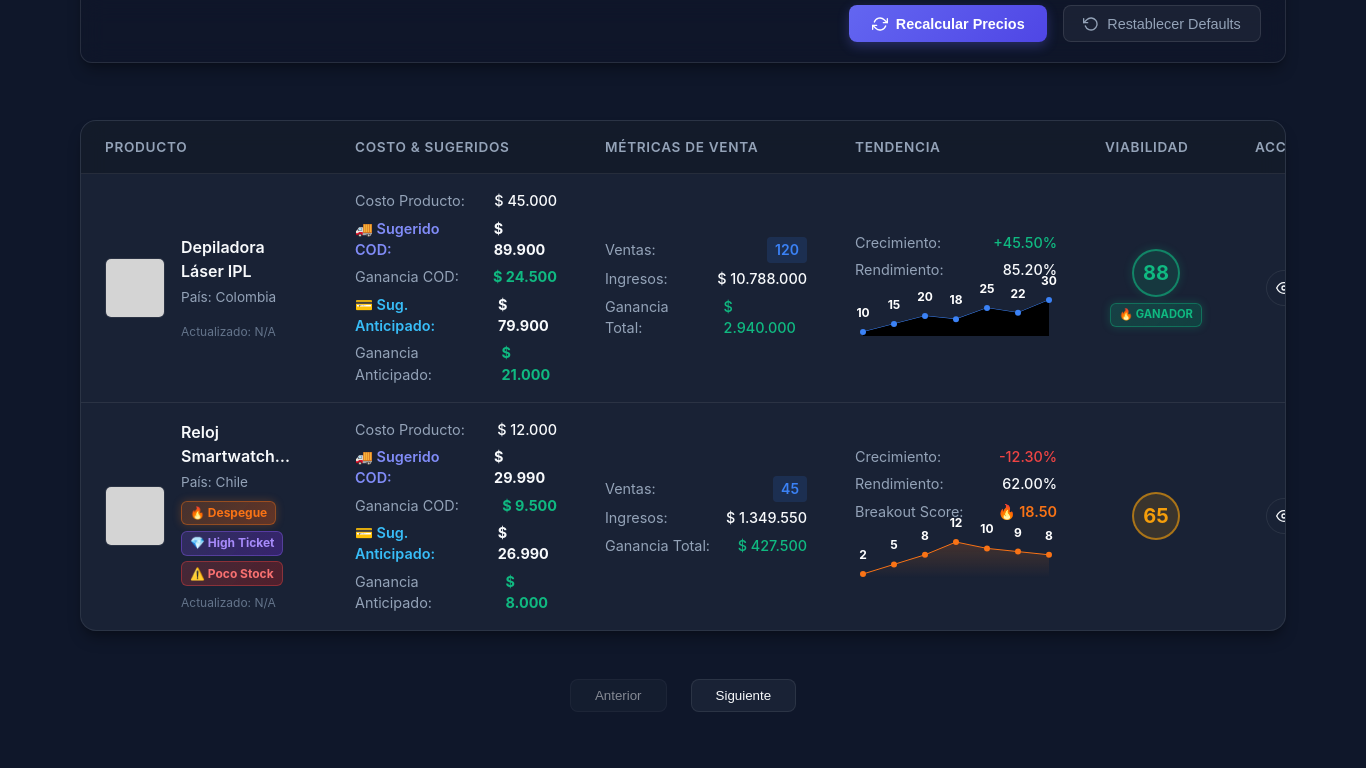
Home Page (MSW Integration) › gestiona la paginación por cursor correctamente
(page scrolled)
Expected: the text "Depiladora Láser IPL" is shown, [181,237,265,281]
Expected: the button "Anterior" is disabled, [570,679,667,712]
Note: Hacer clic en Siguiente
Click the button "Siguiente".
click(743, 695)  # box [690,679,796,712]
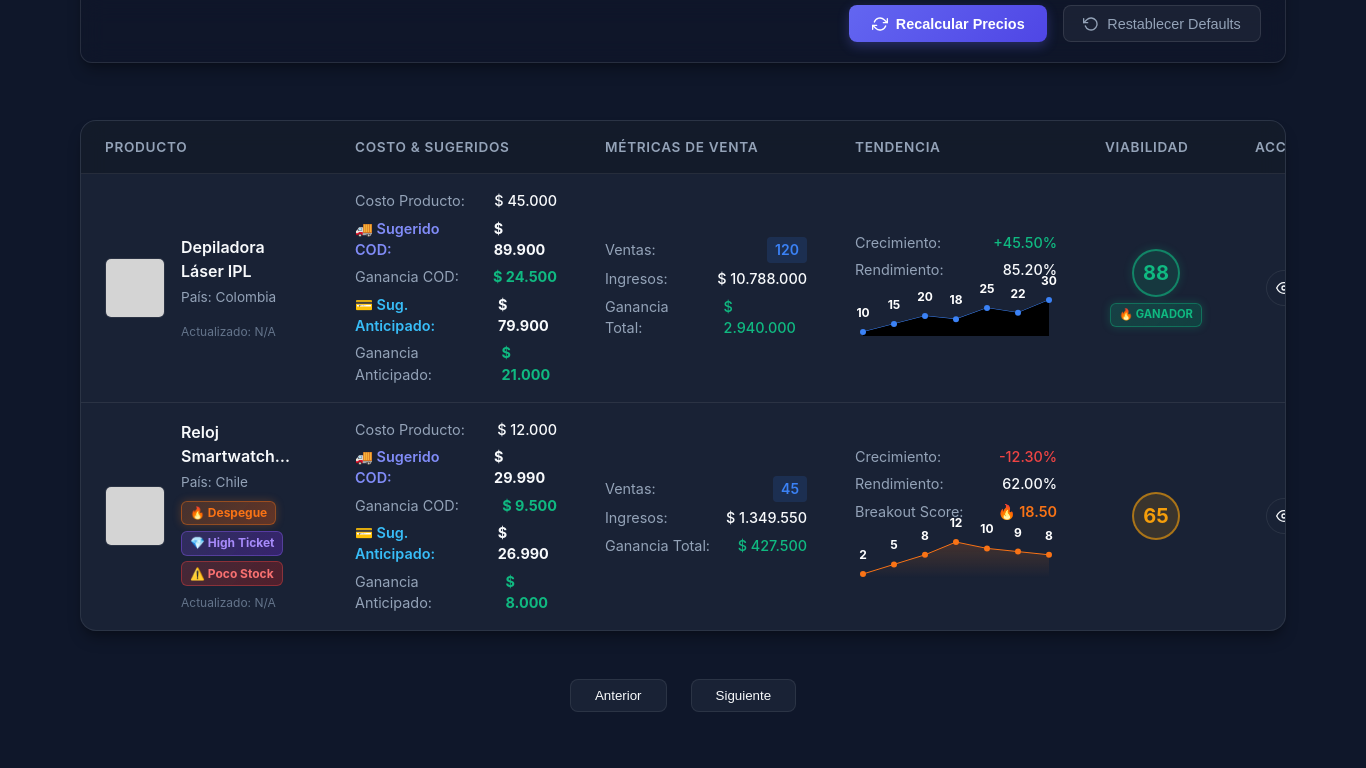
Expected: the button "Anterior" is enabled, [570,679,667,712]
